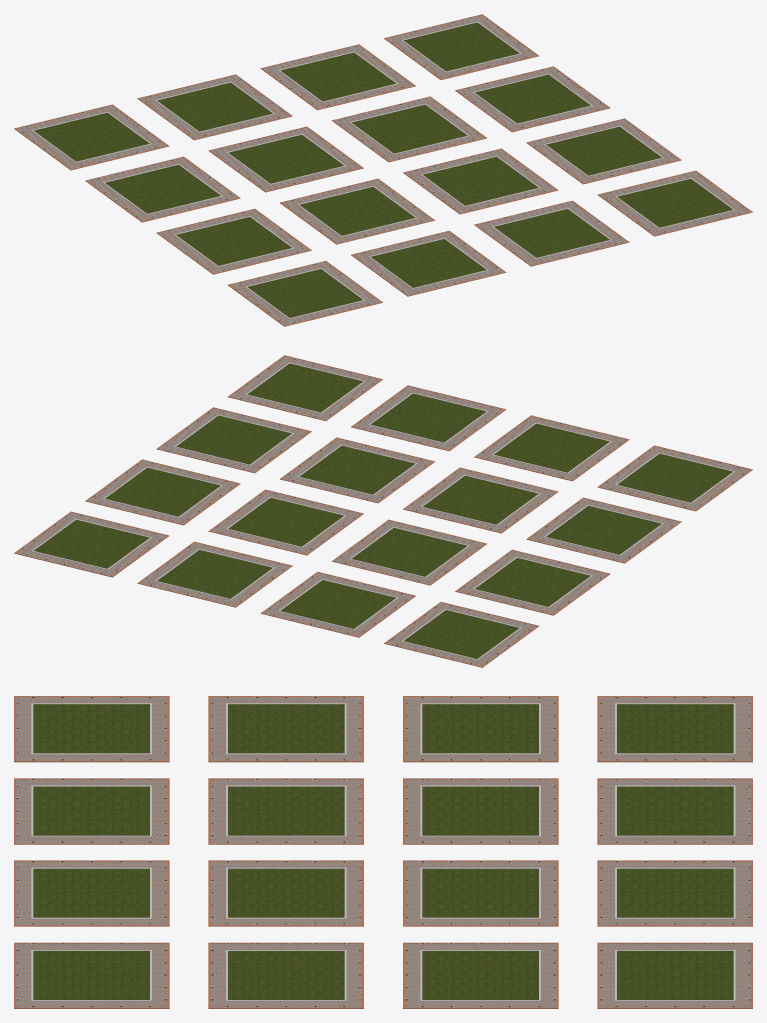
Rendered from basic_land.FBX.
3 renders of one model, top to bottom at view 1: azimuth 30°, elevation 25°; view 2: azimuth 150°, elevation 25°; view 3: azimuth 270°, elevation 25°, orthographic. The views are drawn at different scales.
Visible parts, largest first — view 1: Group003, Group001, Group002, Group004, Plane006, Plane009, Plane008, Plane007; view 2: Group001, Group003, Group004, Group002, Plane008, Plane007, Plane006, Plane009; view 3: Group001, Group003, Group002, Group004, Plane006, Plane008, Plane007, Plane009.
Part boxes in pixels (box(x1,y1,x2,y2)): Group003: box(85, 66, 610, 222); Group001: box(156, 118, 681, 274); Group002: box(228, 170, 752, 326); Group004: box(14, 14, 538, 170); Plane006: box(164, 121, 673, 270); Plane009: box(21, 17, 531, 166); Plane008: box(93, 69, 602, 218); Plane007: box(235, 173, 745, 322); Group001: box(156, 407, 681, 563); Group003: box(85, 459, 610, 615); Group004: box(14, 511, 538, 667); Group002: box(228, 355, 752, 511); Plane008: box(93, 462, 602, 611); Plane007: box(235, 358, 745, 507); Plane006: box(164, 410, 673, 559); Plane009: box(21, 514, 531, 663); Group001: box(208, 696, 363, 1008); Group003: box(403, 696, 558, 1008); Group002: box(14, 696, 169, 1008); Group004: box(597, 696, 752, 1008); Plane006: box(210, 696, 361, 1007); Plane008: box(405, 696, 556, 1007); Plane007: box(16, 696, 167, 1007); Plane009: box(599, 696, 750, 1007).
Size of what is drawn, in the model's own units: 190000 by 300 by 190000.
